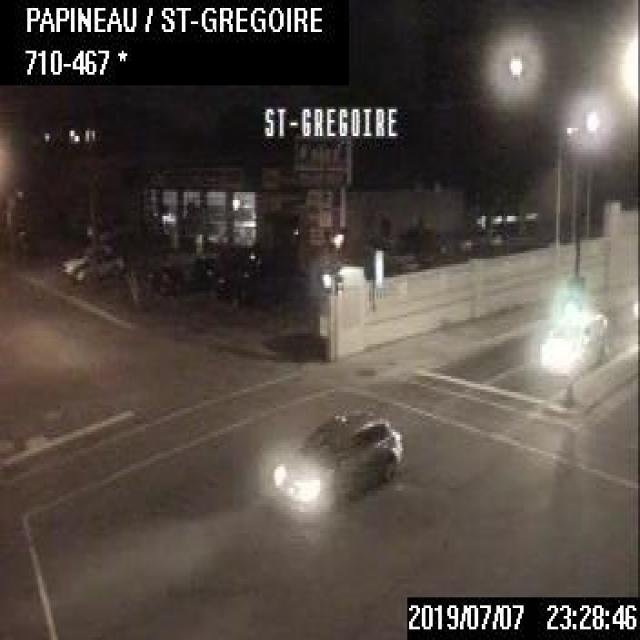vehicle: (267, 405, 402, 507), (533, 307, 609, 373), (64, 240, 124, 280)
